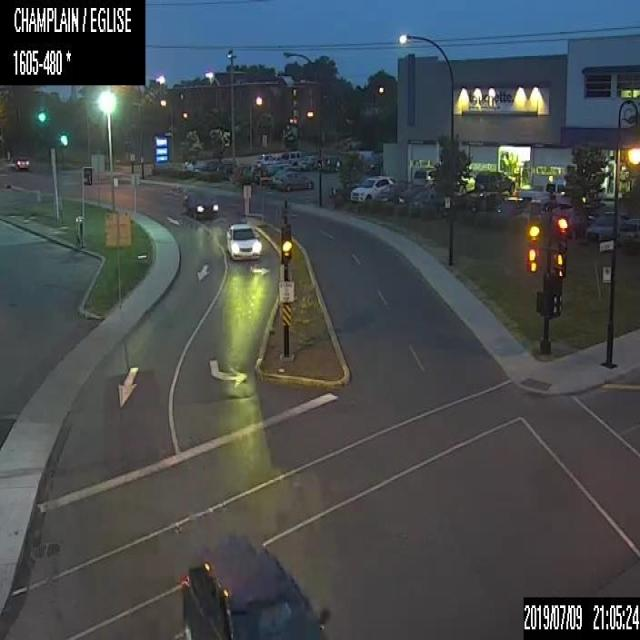vehicle: (179, 536, 331, 639), (224, 220, 262, 261), (585, 208, 628, 240), (551, 206, 594, 238), (520, 180, 570, 206), (350, 174, 396, 202), (520, 197, 552, 233), (474, 168, 515, 195), (184, 190, 218, 218), (457, 190, 501, 210), (272, 170, 313, 190), (255, 162, 290, 185), (376, 181, 408, 202), (398, 181, 427, 203), (217, 156, 250, 175), (328, 180, 358, 198), (617, 217, 639, 241), (494, 196, 522, 213), (410, 189, 437, 206), (193, 157, 216, 176), (252, 153, 279, 169), (288, 149, 305, 169), (413, 169, 434, 183), (300, 153, 318, 169), (184, 157, 206, 170), (13, 156, 30, 170)
